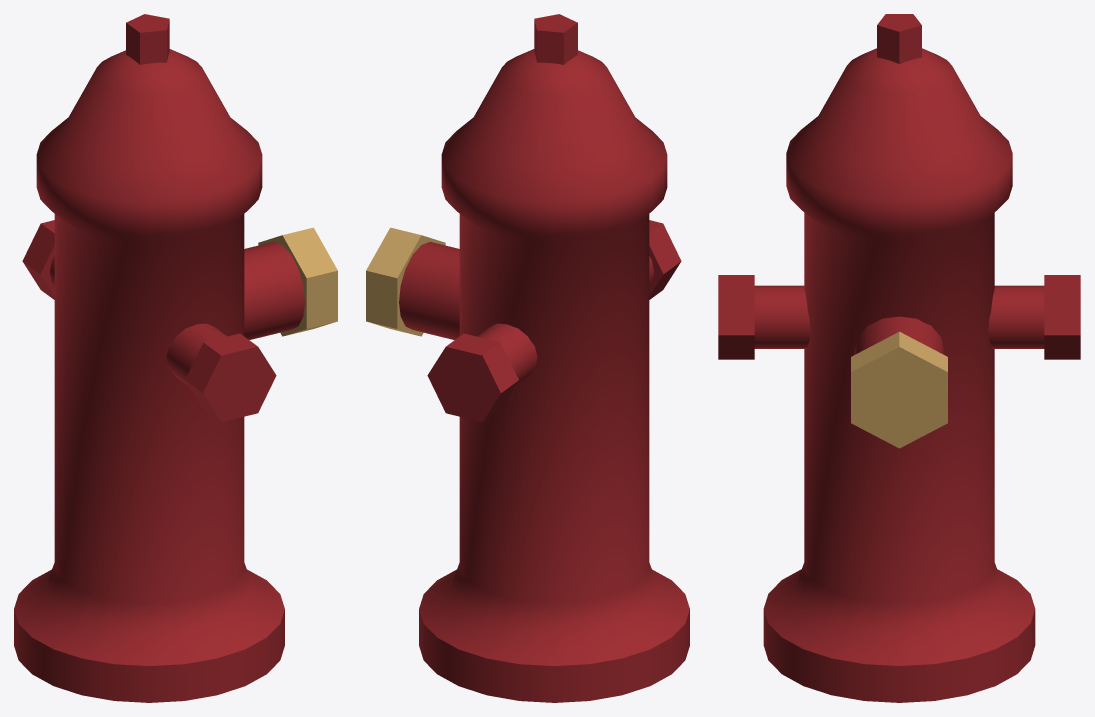
Rendered from hydrant.glb.
3 renders of one model, left to right at view 1: azimuth 30°, elevation 25°; view 2: azimuth 150°, elevation 25°; view 3: azimuth 270°, elevation 25°, orthographic.
Parts seen in each view (by area): view 1: Body_LOD0, Cap_LOD0.001, Outlet_LOD0.002, Cap_LOD0.002, Nut_LOD0, Outlet_LOD0.001, Cap_LOD0; view 2: Body_LOD0, Cap_LOD0, Outlet_LOD0.002, Cap_LOD0.002, Nut_LOD0, Outlet_LOD0, Cap_LOD0.001; view 3: Body_LOD0, Cap_LOD0.002, Outlet_LOD0, Outlet_LOD0.001, Cap_LOD0, Cap_LOD0.001, Nut_LOD0, Outlet_LOD0.002.
Part boxes in pixels (<box>): Body_LOD0: <box>14,49,284,702</box>; Cap_LOD0.001: <box>185,333,276,421</box>; Outlet_LOD0.002: <box>244,242,304,339</box>; Cap_LOD0.002: <box>258,227,337,336</box>; Nut_LOD0: <box>126,14,169,64</box>; Outlet_LOD0.001: <box>166,323,227,385</box>; Cap_LOD0: <box>22,220,54,299</box>; Body_LOD0: <box>419,49,689,702</box>; Cap_LOD0: <box>427,333,518,421</box>; Outlet_LOD0.002: <box>399,242,459,339</box>; Cap_LOD0.002: <box>366,227,445,336</box>; Nut_LOD0: <box>534,14,577,64</box>; Outlet_LOD0: <box>476,323,537,385</box>; Cap_LOD0.001: <box>649,220,681,299</box>; Body_LOD0: <box>763,48,1035,702</box>; Cap_LOD0.002: <box>851,331,947,448</box>; Outlet_LOD0: <box>988,285,1044,348</box>; Outlet_LOD0.001: <box>754,285,810,348</box>; Cap_LOD0: <box>1044,275,1080,359</box>; Cap_LOD0.001: <box>718,275,754,359</box>; Nut_LOD0: <box>877,14,921,63</box>; Outlet_LOD0.002: <box>854,316,944,354</box>.
Bounding box in the file's own units: 0.36 × 0.76 × 0.4.
